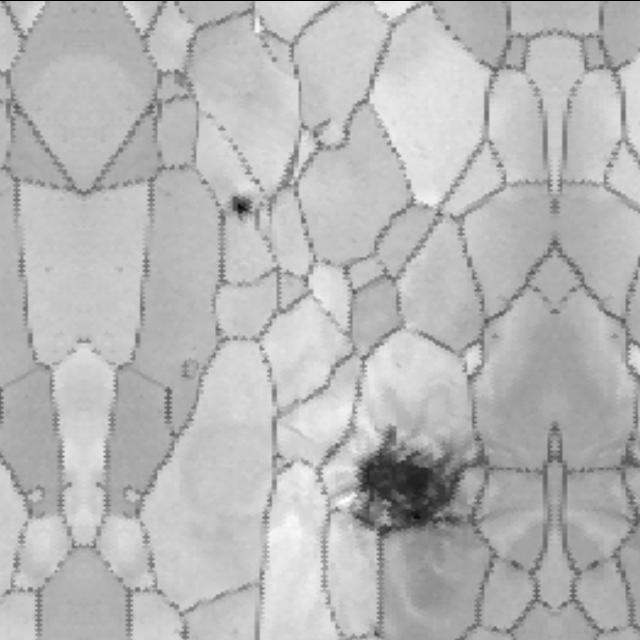good_void: (320, 403, 512, 549), (219, 179, 266, 226)
